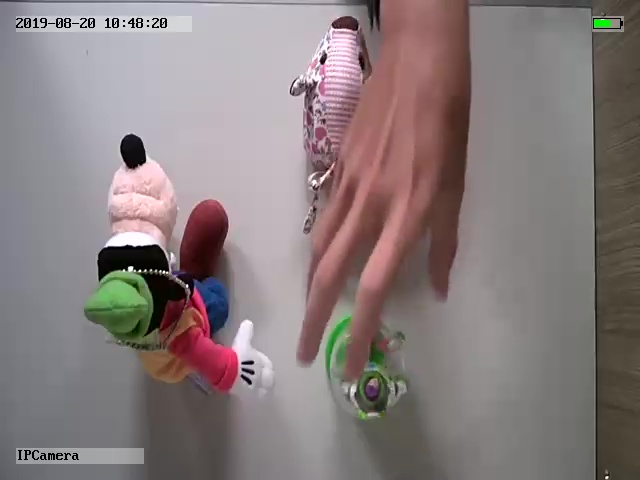buzz: (322, 310, 410, 423)
goofy: (80, 129, 278, 403)
pig: (288, 14, 376, 233)
